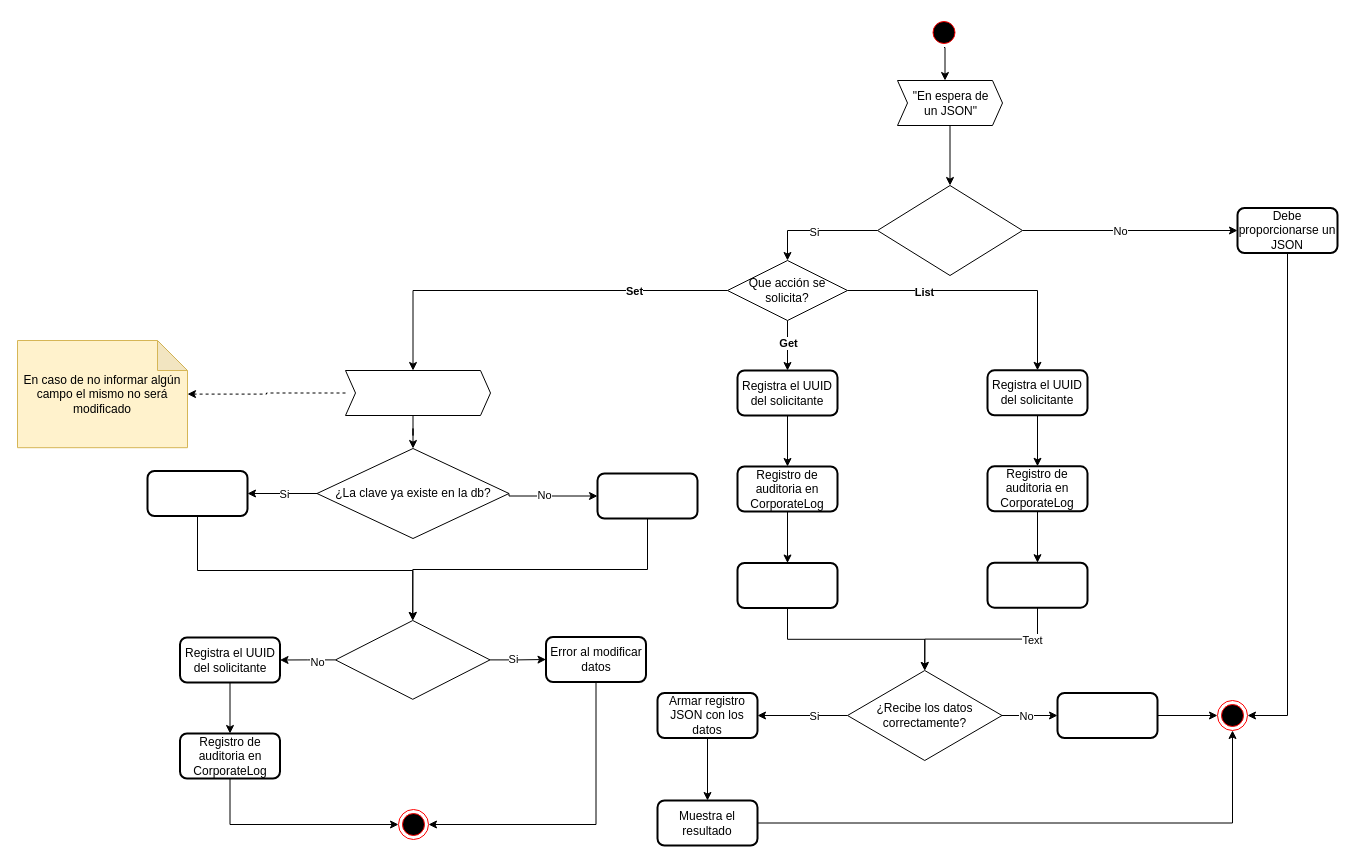
Some shapes in this 1356 by 864 pixel diagram are drawn without their labels. Each missing label, with the centre of its shape:
"Espera contenido del tuple mediante JSON": the point at 417,393
Crea un nuevo registro con los datos recibidos: the point at 647,495
Error al obtener datos: the point at 1107,715
Modifica el registro con los datos recibidos: the point at 197,493
Solicita la tupla buscada a la db: the point at 787,585
Solicita todos los tuples a la db: the point at 1037,584
¿Ocurrió algun error?: the point at 412,659
¿Se proporcionó un JSON?: the point at 949,230
